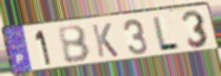1: (34, 29, 53, 67)
3: (181, 9, 210, 50), (123, 18, 149, 56)
B: (56, 24, 93, 65)
K: (90, 22, 121, 59)
L: (151, 15, 182, 51)
